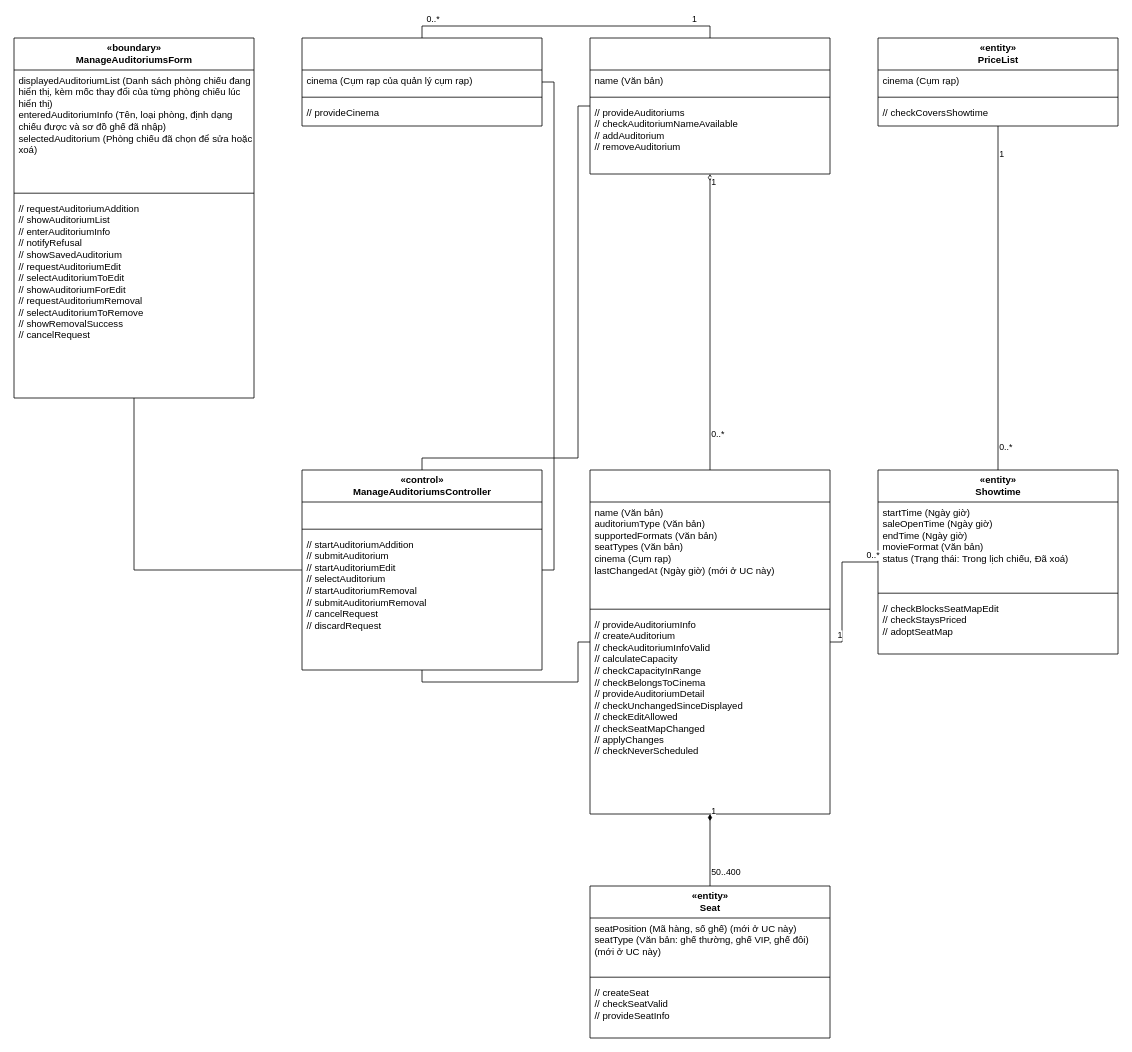
Some shapes in this 1132 by 1052 pixel diagram are drawn without their labels. Here are the shapes that lost their labels. From the top down, the box of each, then its label:
(301, 37, 542, 126): «entity» CinemaManager
(589, 37, 830, 174): «entity» Cinema
(589, 469, 830, 814): «entity» Auditorium
